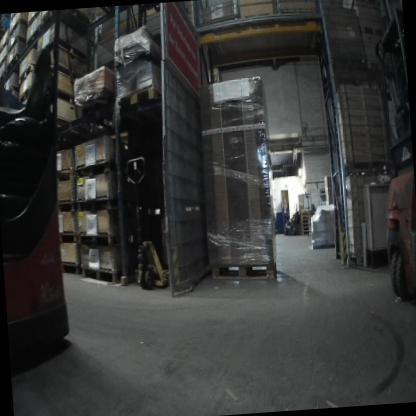forklift: (0, 10, 86, 366), (368, 4, 416, 304)
pallet: (210, 260, 278, 284), (114, 83, 163, 112), (35, 33, 87, 60), (75, 87, 116, 121), (113, 42, 162, 70), (355, 0, 384, 39), (73, 157, 117, 181), (80, 261, 121, 286), (341, 157, 392, 177), (40, 8, 91, 28), (76, 229, 121, 250), (48, 58, 83, 84), (76, 194, 117, 213), (49, 84, 75, 106), (24, 26, 48, 49), (18, 63, 40, 84), (8, 34, 28, 55), (5, 17, 27, 35), (5, 54, 22, 77), (55, 113, 75, 132), (61, 260, 82, 277), (56, 167, 75, 184), (57, 198, 75, 215), (346, 250, 363, 267), (25, 12, 43, 28), (59, 228, 77, 244), (17, 86, 32, 104), (367, 57, 382, 72), (0, 51, 10, 71), (0, 40, 9, 57), (8, 83, 20, 95), (0, 72, 7, 89), (300, 222, 311, 228), (301, 230, 312, 236), (300, 211, 312, 216), (300, 215, 312, 220), (301, 219, 311, 224), (301, 227, 311, 231)
pallet_truck: (122, 154, 169, 292), (291, 203, 301, 234)
